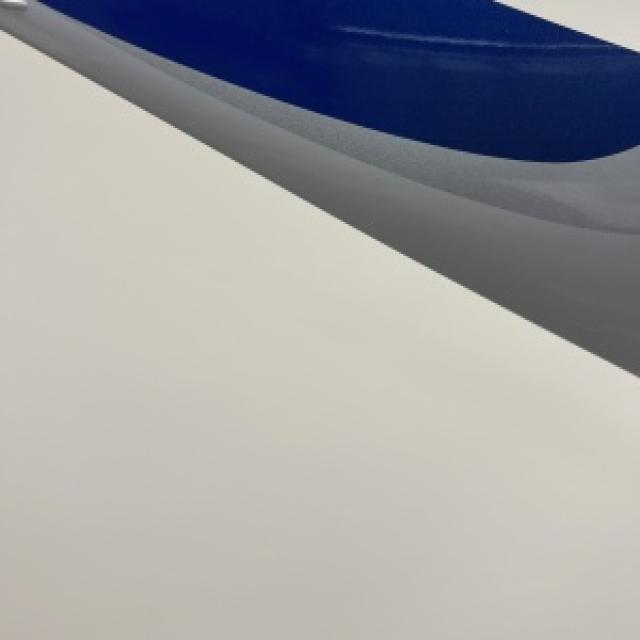healthy: (0, 0, 638, 371)
